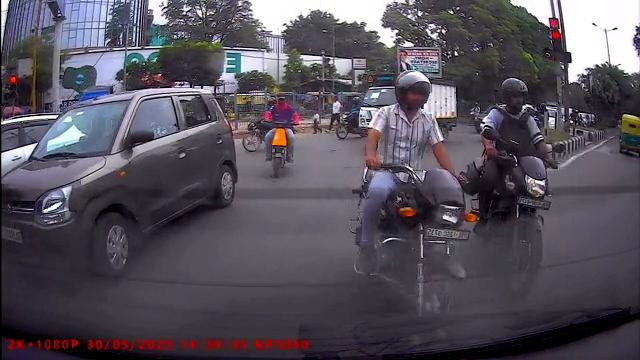motorcycle_with_helmet: (349, 68, 477, 323), (462, 74, 559, 296)
motorcycle_without_helmet: (262, 92, 300, 179)
